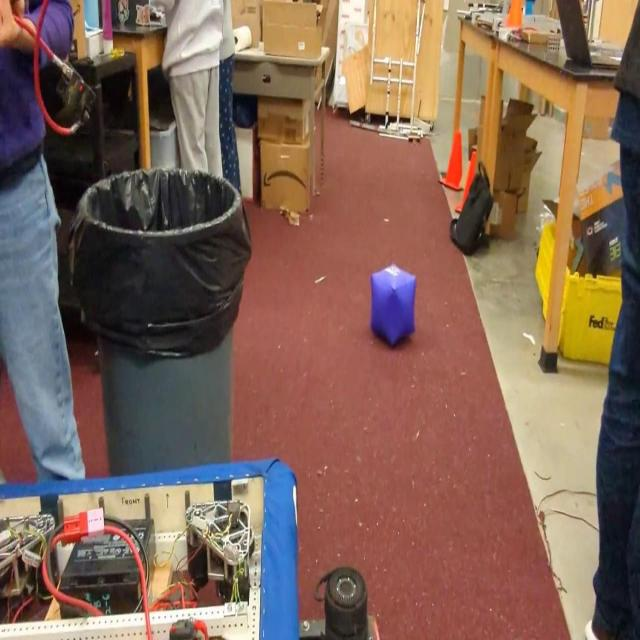frc_cube: (369, 263, 416, 349)
